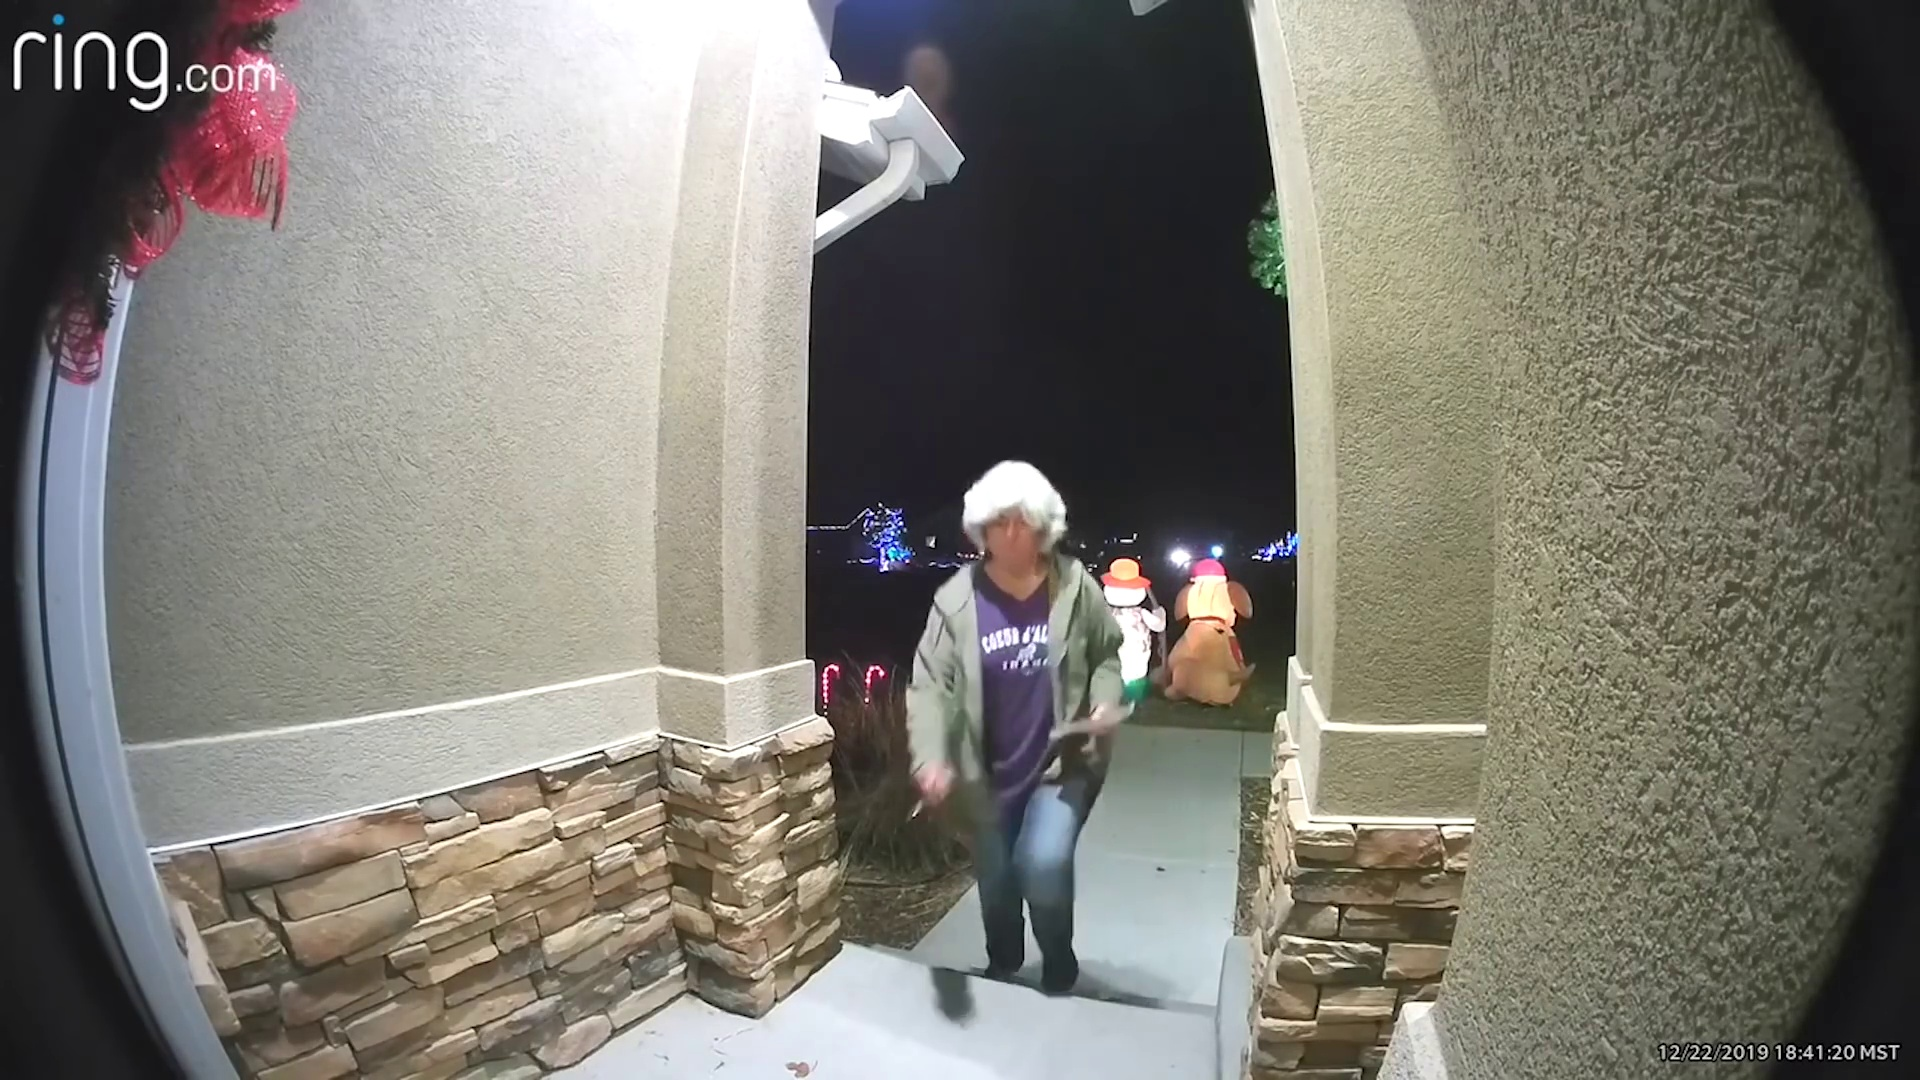face: (987, 509, 1035, 560)
